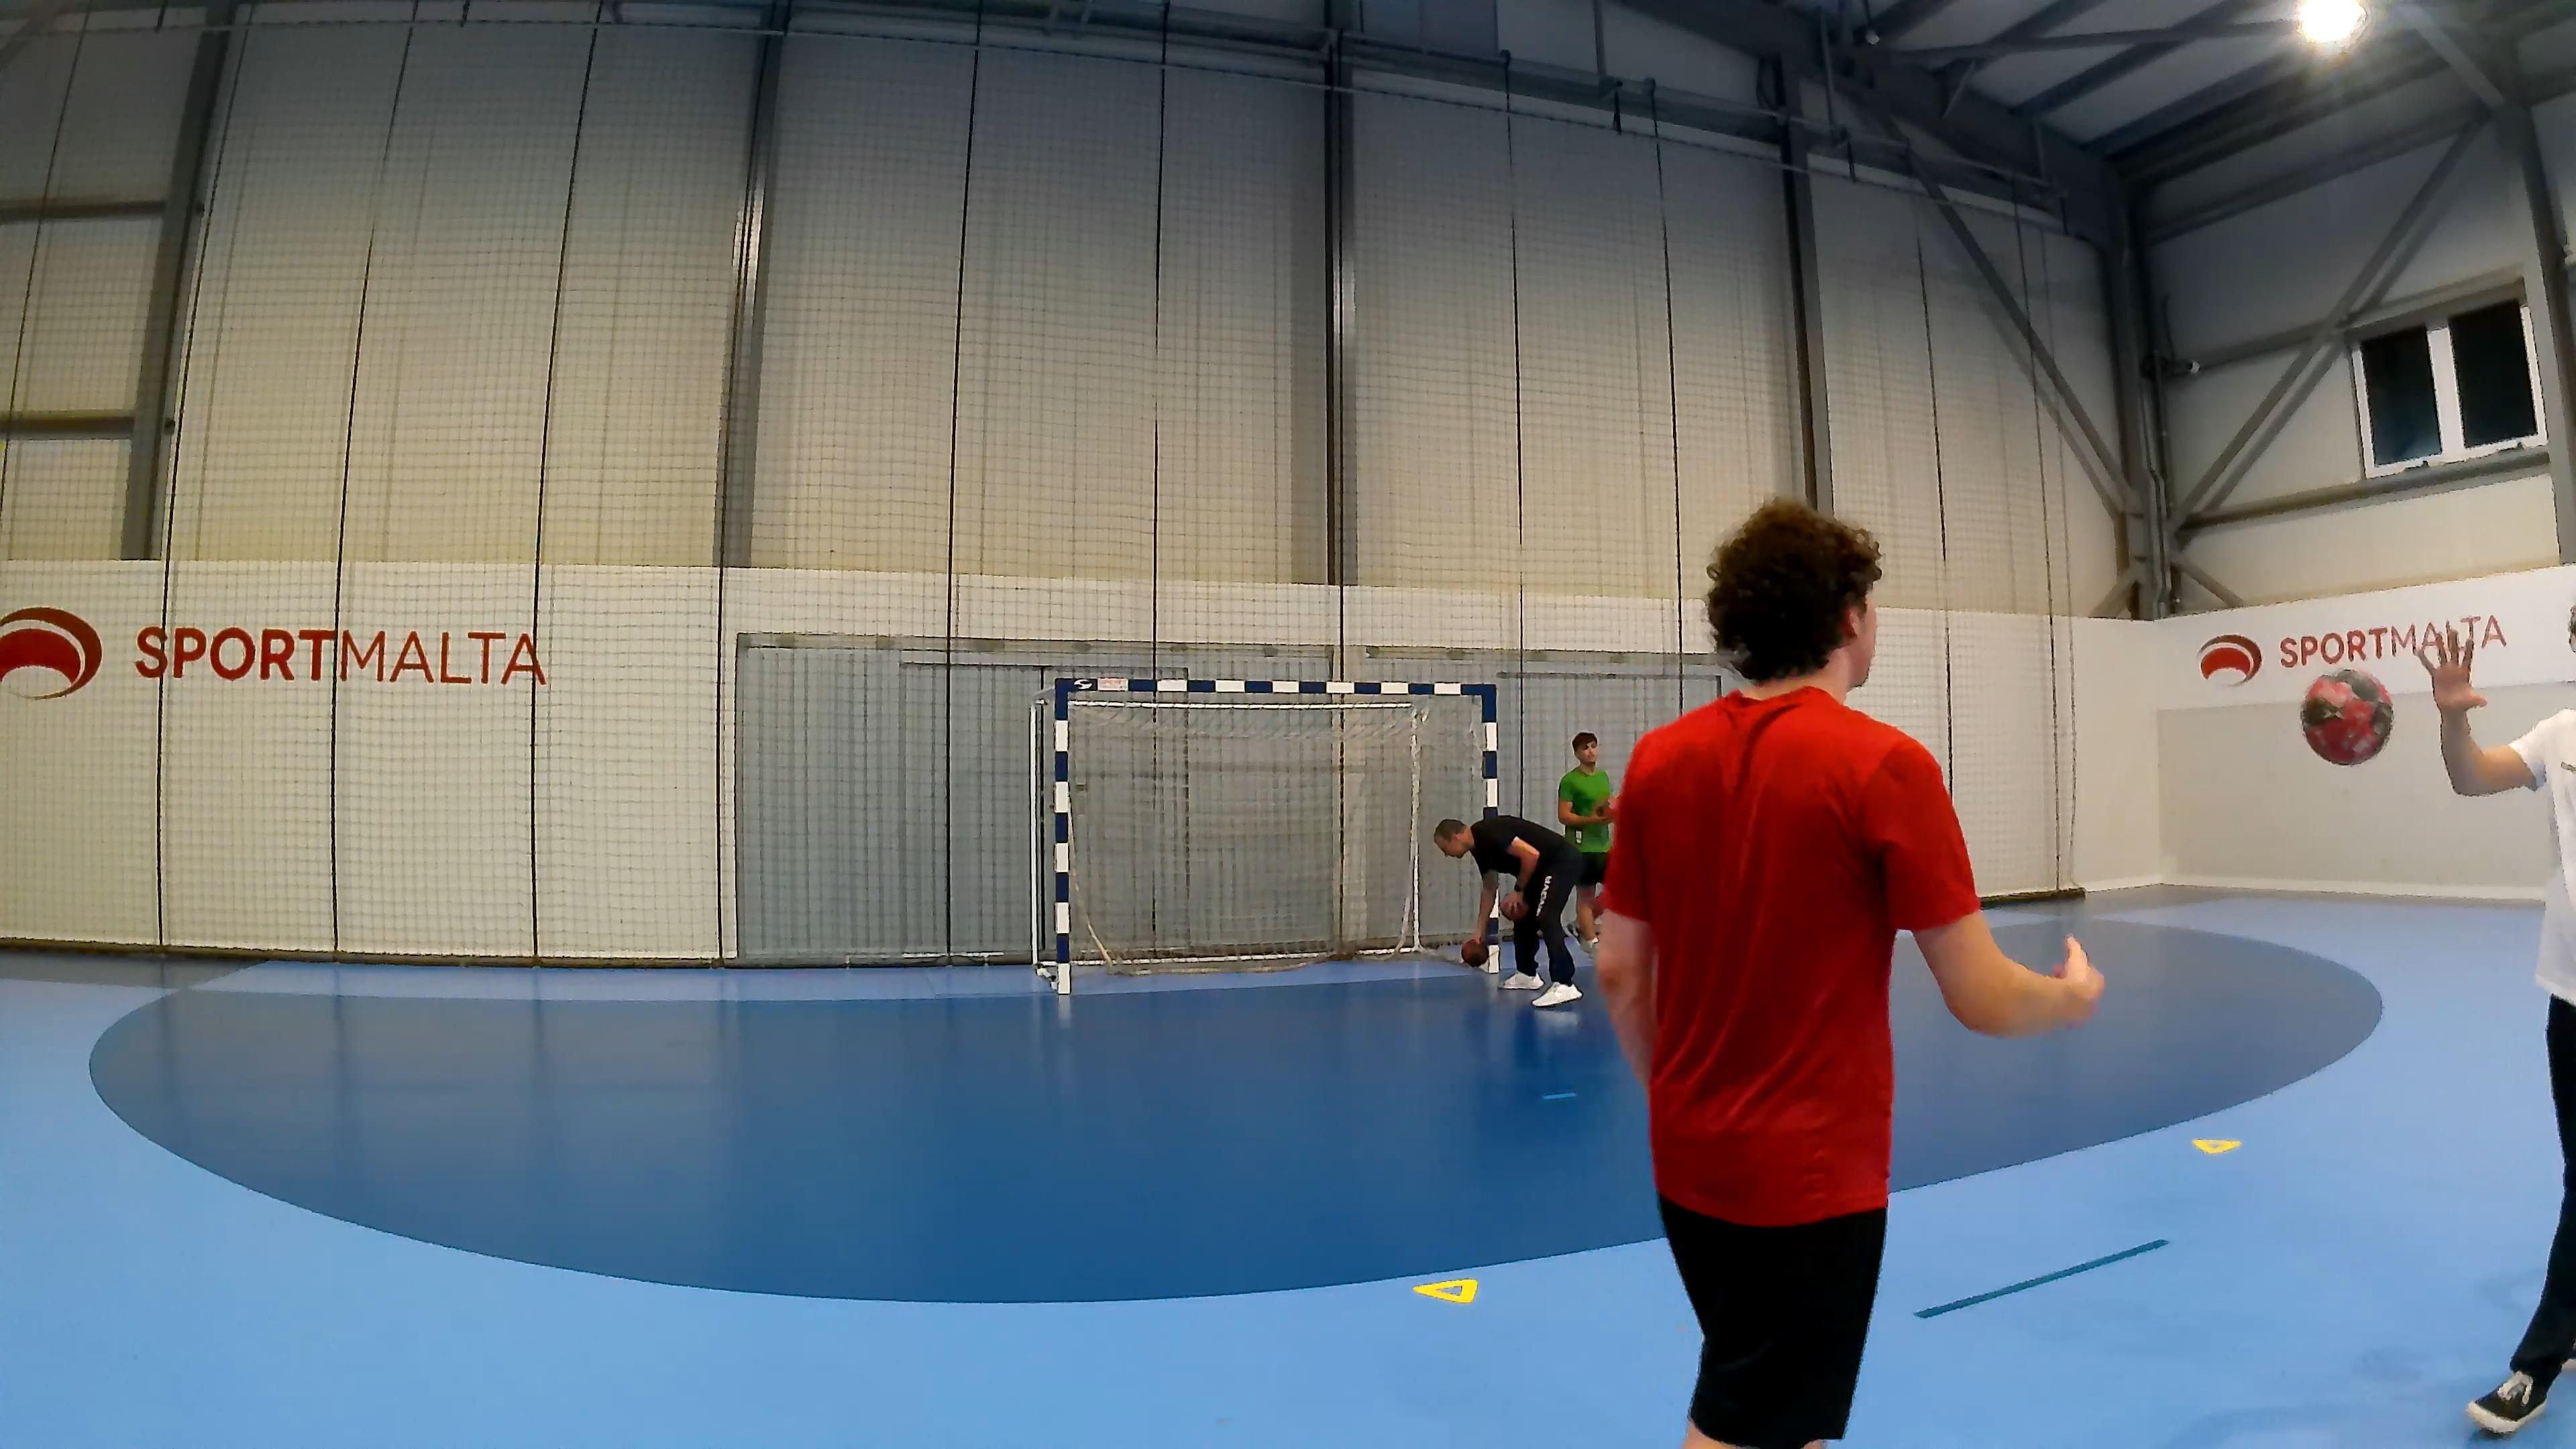handball: (2298, 665, 2392, 766)
